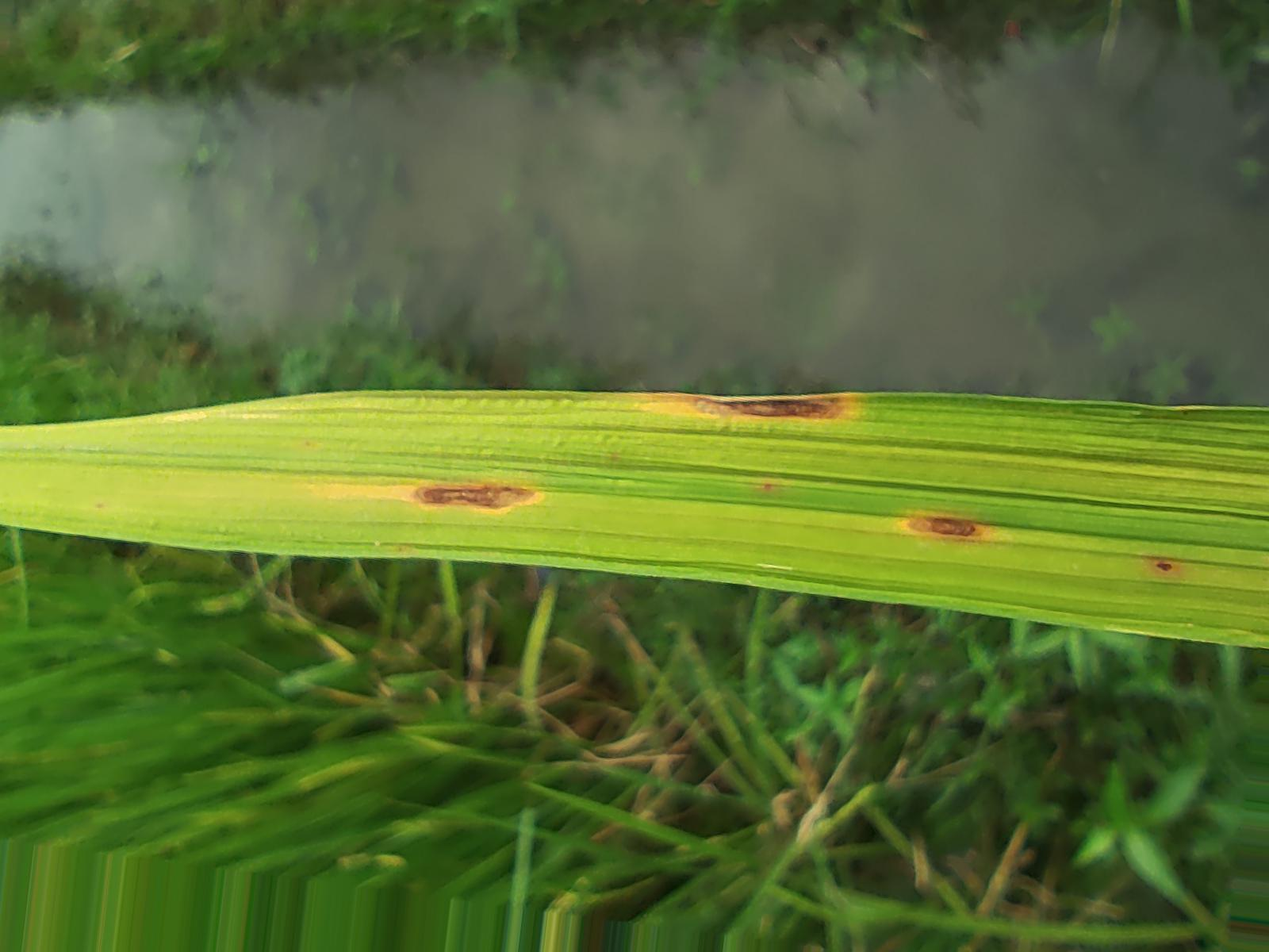LEAF: (0, 391, 1268, 647)
NBS: (905, 514, 991, 538), (1142, 557, 1183, 577), (762, 482, 773, 490)
